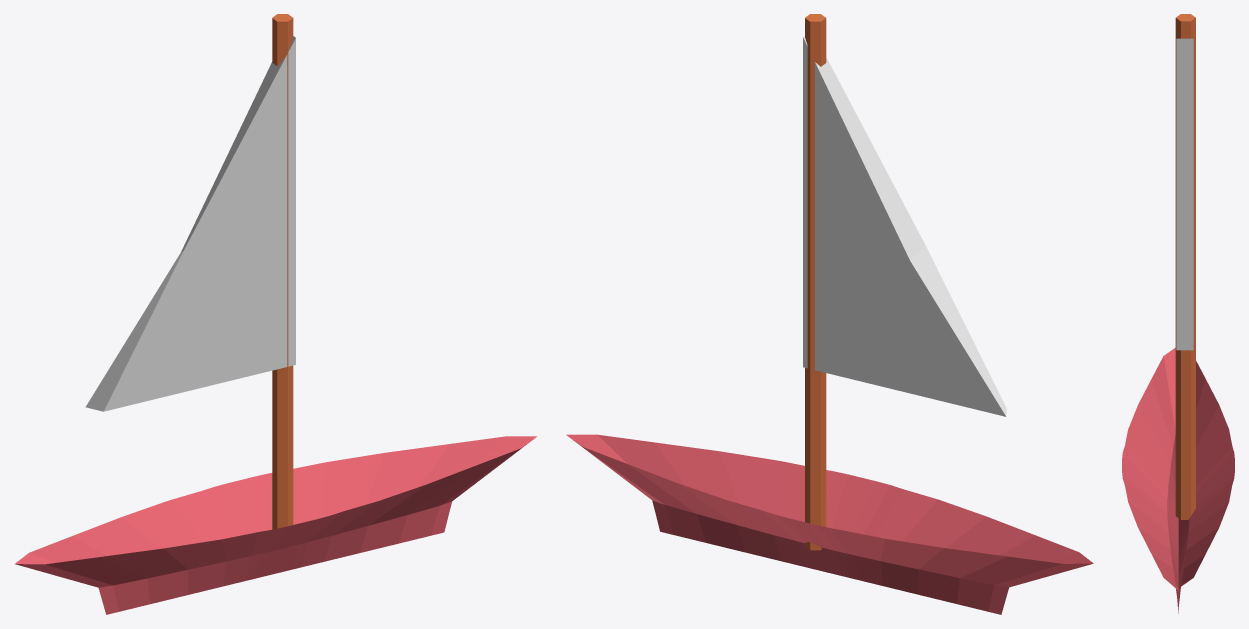
Rendered from boat.glb.
3 renders of one model, left to right at view 1: azimuth 30°, elevation 25°; view 2: azimuth 150°, elevation 25°; view 3: azimuth 270°, elevation 25°, orthographic. The views are drawn at different scales.
Parts seen in each view (by area): view 1: Circle, Cube, Cylinder; view 2: Circle, Cube, Cylinder; view 3: Circle, Cube, Cylinder.
Part boxes in pixels (bbox=[...]): Circle: bbox=[15, 436, 536, 614]; Cube: bbox=[85, 36, 295, 411]; Cylinder: bbox=[272, 14, 293, 529]; Circle: bbox=[566, 434, 1093, 614]; Cube: bbox=[803, 36, 1006, 416]; Cylinder: bbox=[805, 14, 826, 550]; Circle: bbox=[1122, 348, 1234, 613]; Cube: bbox=[1176, 38, 1193, 350]; Cylinder: bbox=[1175, 14, 1195, 519].
Size of the model in its own units: 5.51 by 5.54 by 1.08.
